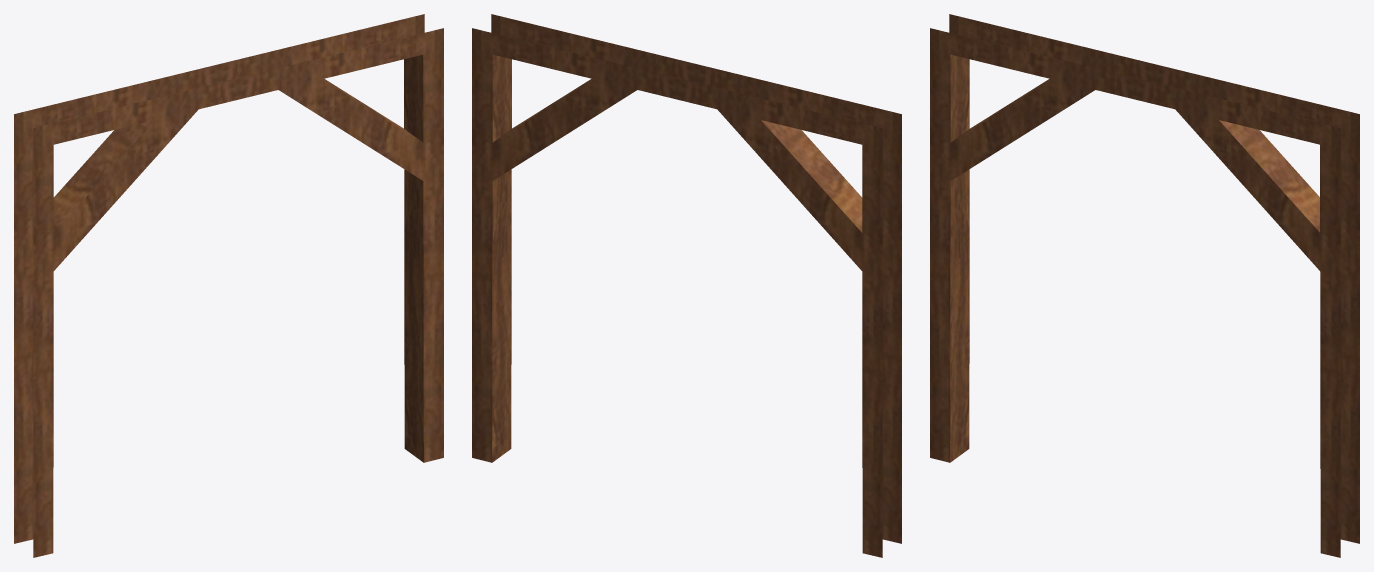
Rendered from Support.glb.
3 renders of one model, left to right at view 1: azimuth 30°, elevation 25°; view 2: azimuth 150°, elevation 25°; view 3: azimuth 330°, elevation 25°, orthographic.
Visible parts, largest first — view 1: Cube_001; view 2: Cube_001; view 3: Cube_001.
Part boxes in pixels (x1,y1,x2,y2): Cube_001: (14, 14, 443, 557); Cube_001: (472, 14, 901, 557); Cube_001: (930, 14, 1359, 557).
Bounding box in the file's own units: 2 × 2 × 0.1622.
Materials: 1 (1 with a texture image).
